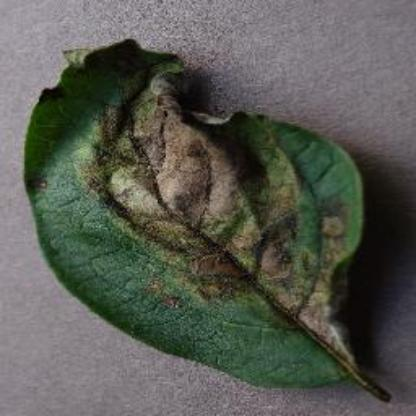Late-Blight: (14, 21, 406, 412)
